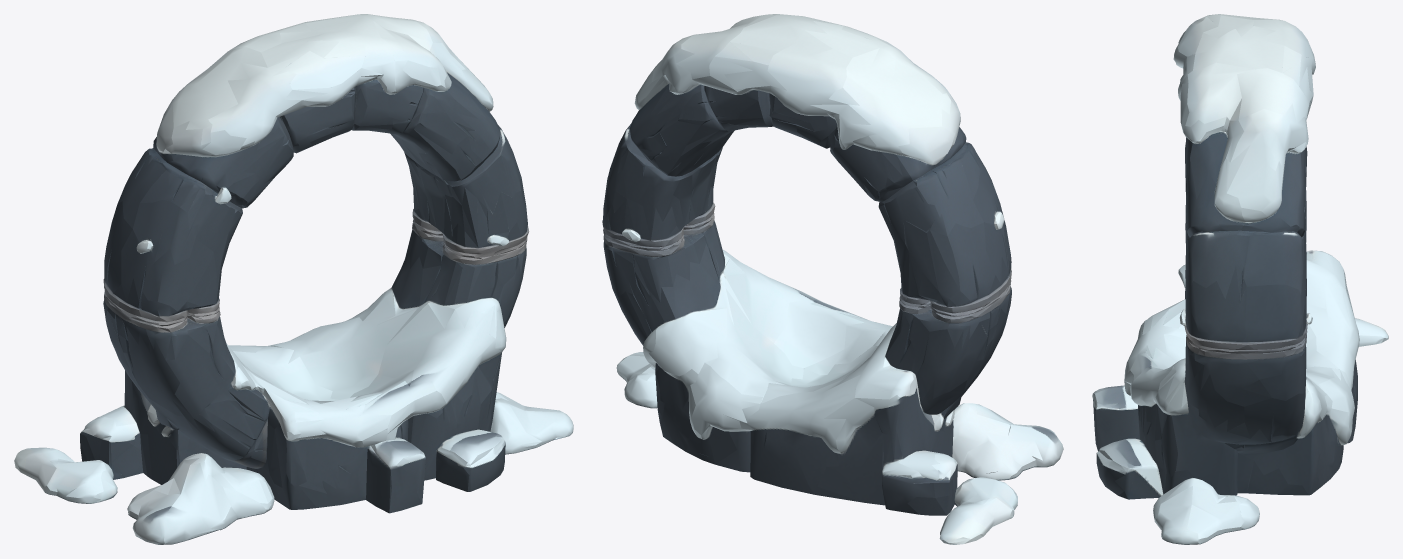
The model's file is ruin_stones.glb.
3 renders of one model, left to right at view 1: azimuth 30°, elevation 25°; view 2: azimuth 150°, elevation 25°; view 3: azimuth 270°, elevation 25°, orthographic. The views are drawn at different scales.
Bounding box in the file's own units: 1.9 × 1.65 × 1.09.
1 material, 1 textured.
